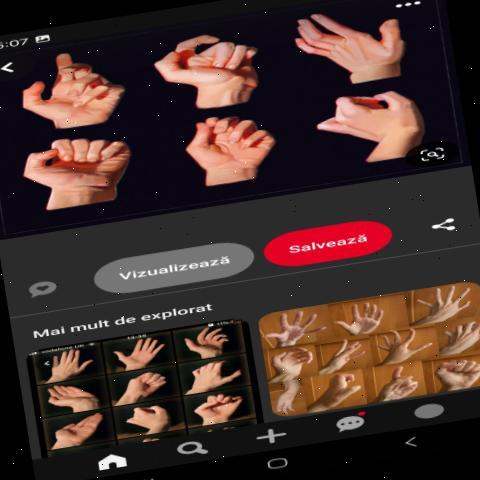Hands: (290, 0, 431, 87), (173, 117, 299, 192), (20, 46, 143, 120), (17, 138, 161, 196), (104, 336, 178, 371)
